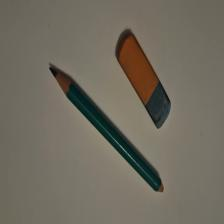eraser: (117, 35, 172, 131)
pencil: (50, 68, 165, 194)
